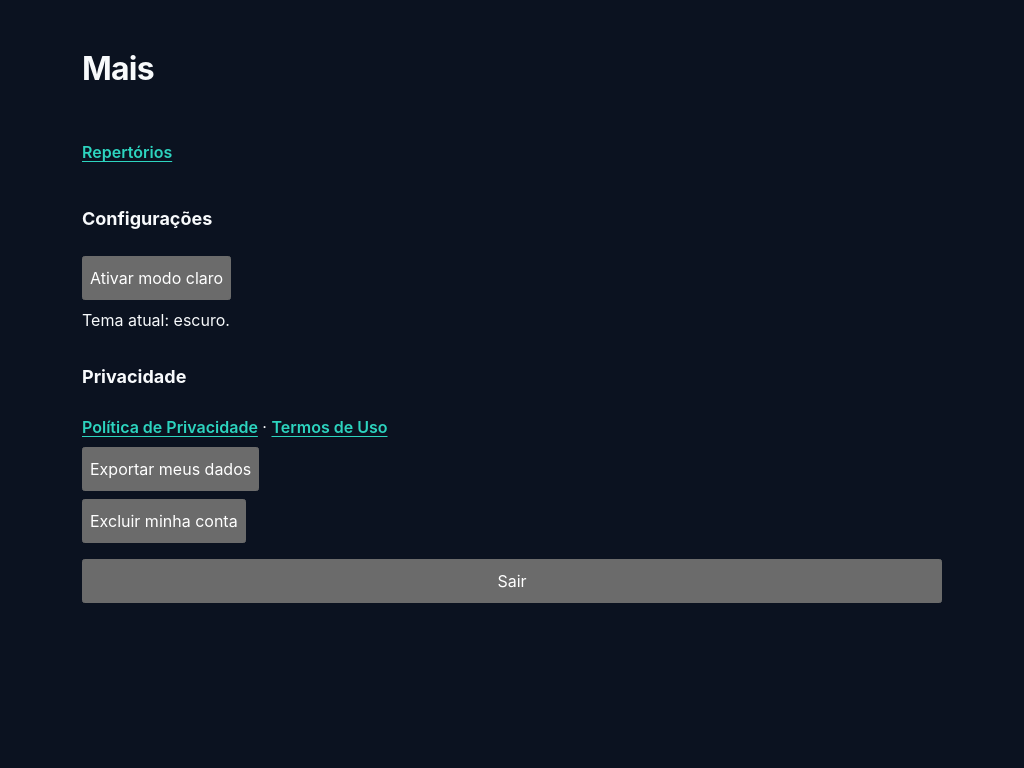
Test case: MorePage › Excluir minha conta › shows "Senha incorreta." and deletes nothing when the password is wrong
This screenshot has width=1024, height=768.
Click the button "Excluir minha conta".
click(164, 521)  # box 82,499 -> 246,543
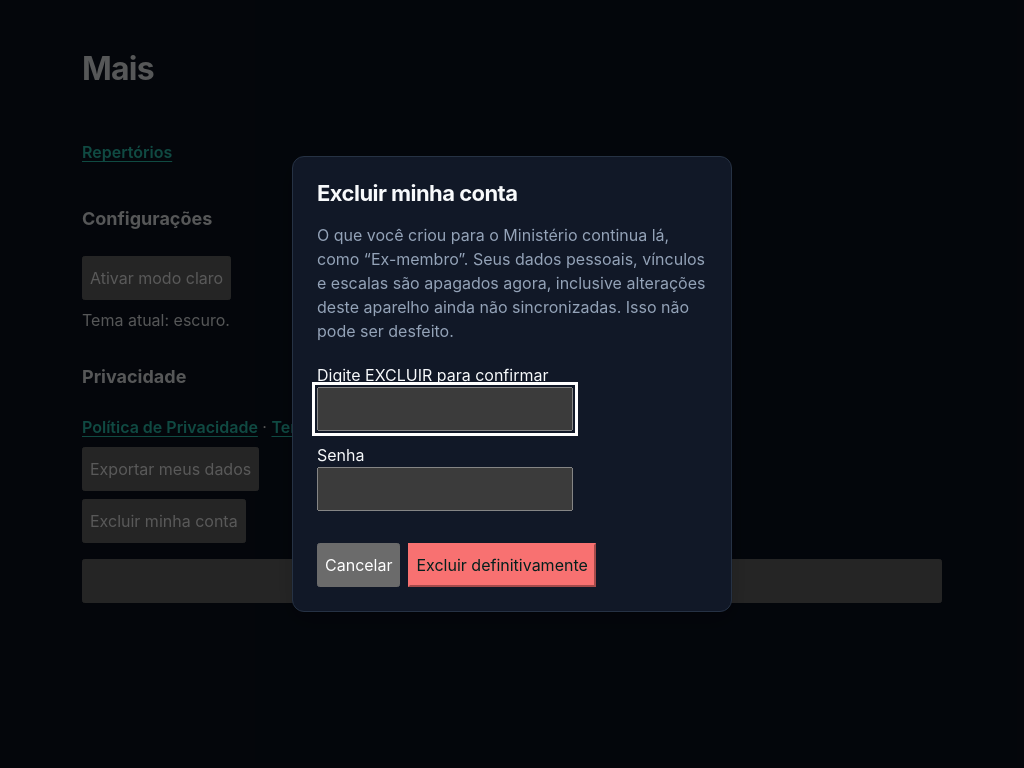
Type "EXCLUIR" into the field labelled "Digite EXCLUIR para confirmar".
click(445, 409); type("EXCLUIR")  # box 317,387 -> 573,431
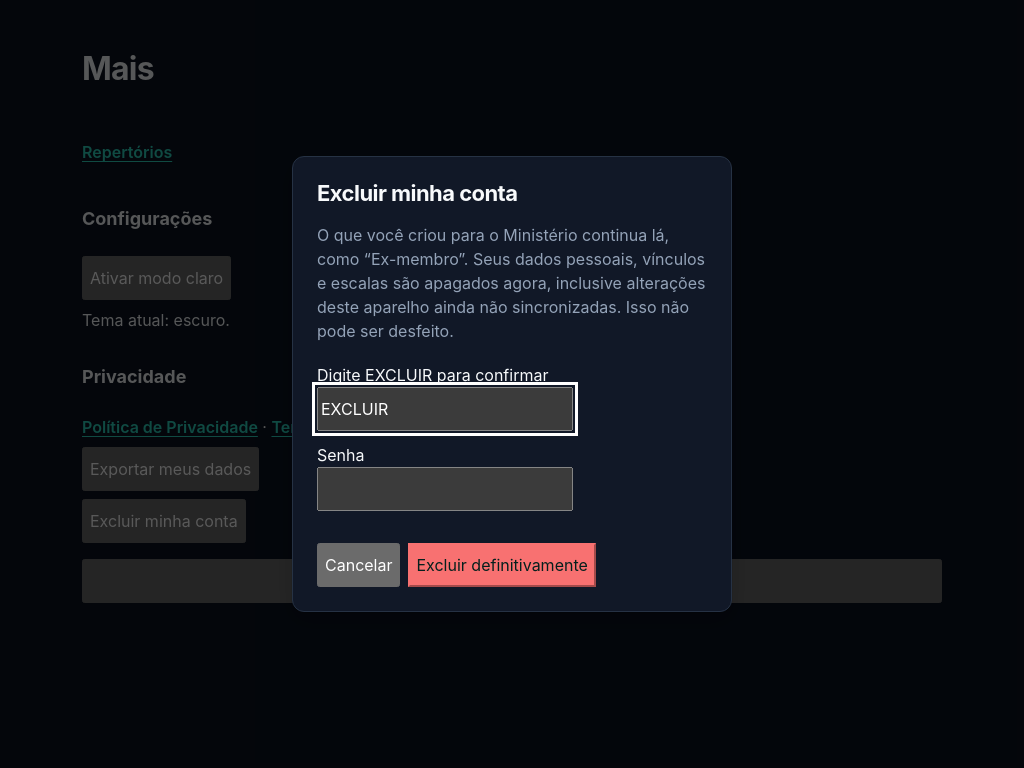
Type "password1" into the password field labelled "Senha".
click(445, 489); type("password1")  # box 317,467 -> 573,511
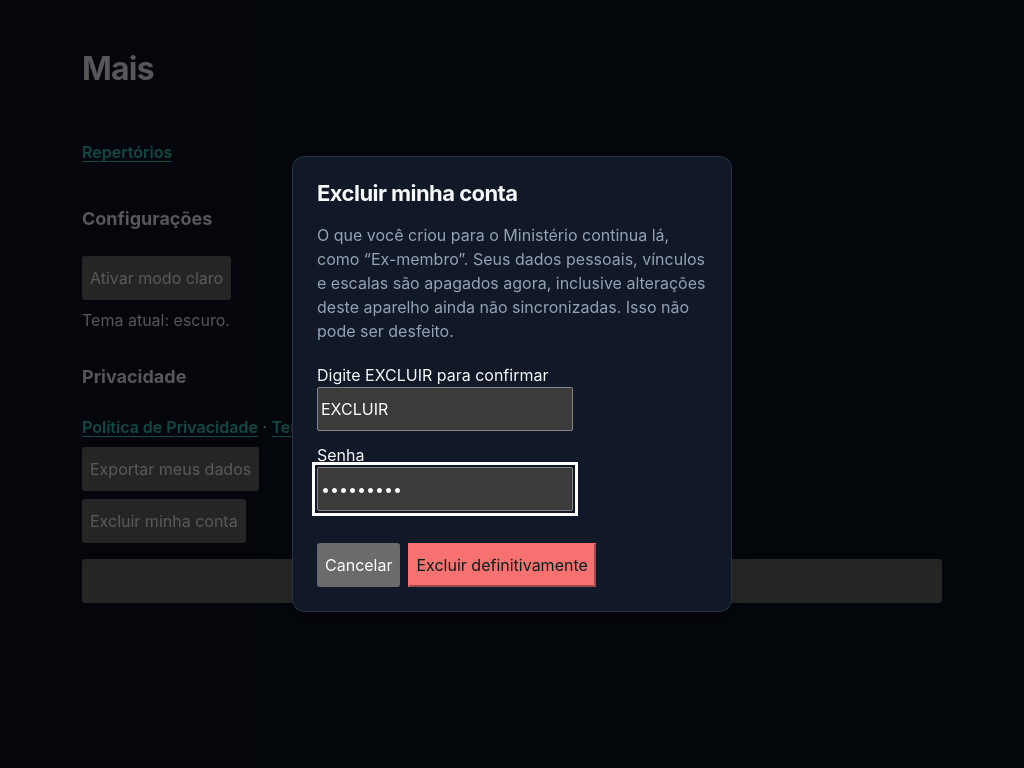
Click the button "Excluir definitivamente".
click(502, 565)  # box 408,543 -> 596,587
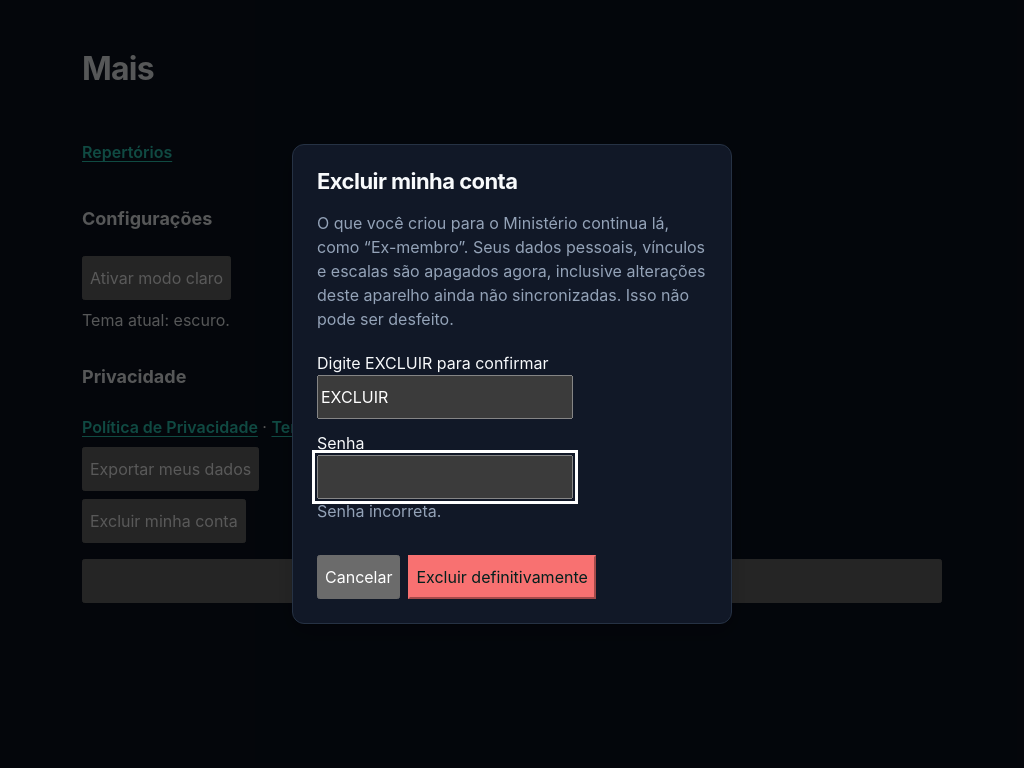
Expected: the message reads "Senha incorreta.", 317,501 -> 441,521
Expected: the password field labelled "Senha" is empty, 317,455 -> 573,499
Expected: the button "Excluir definitivamente" is disabled, 408,555 -> 596,599
